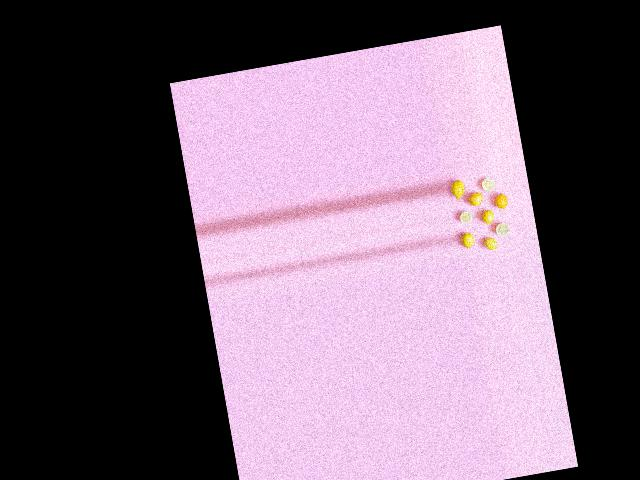lemon: (457, 228, 473, 249)
